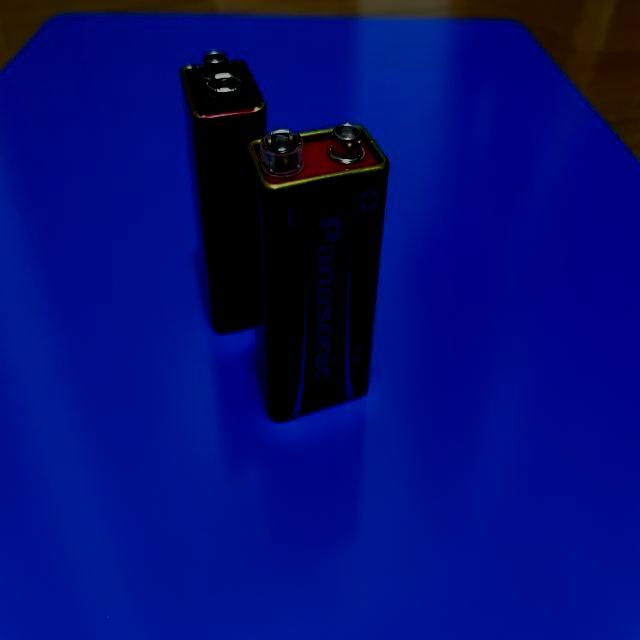9V: (246, 121, 391, 421), (181, 53, 268, 334)
